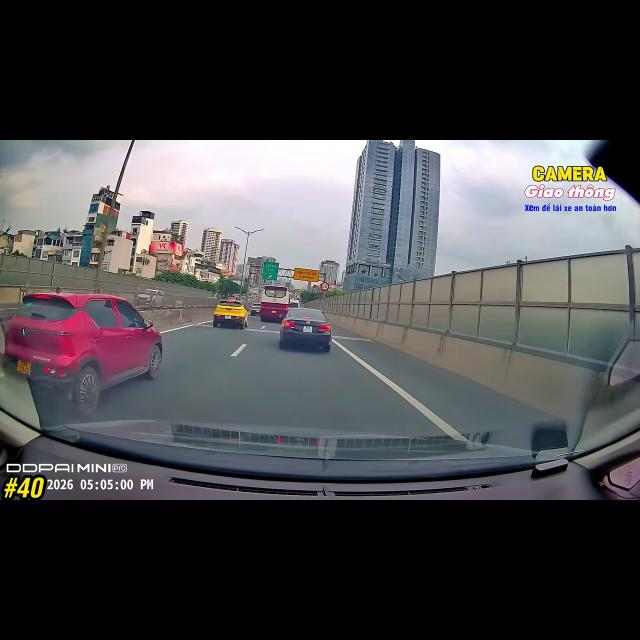bus: (260, 285, 289, 321), (290, 299, 300, 307)
car: (3, 291, 162, 414), (279, 308, 331, 352), (213, 300, 248, 328), (250, 302, 262, 316)
